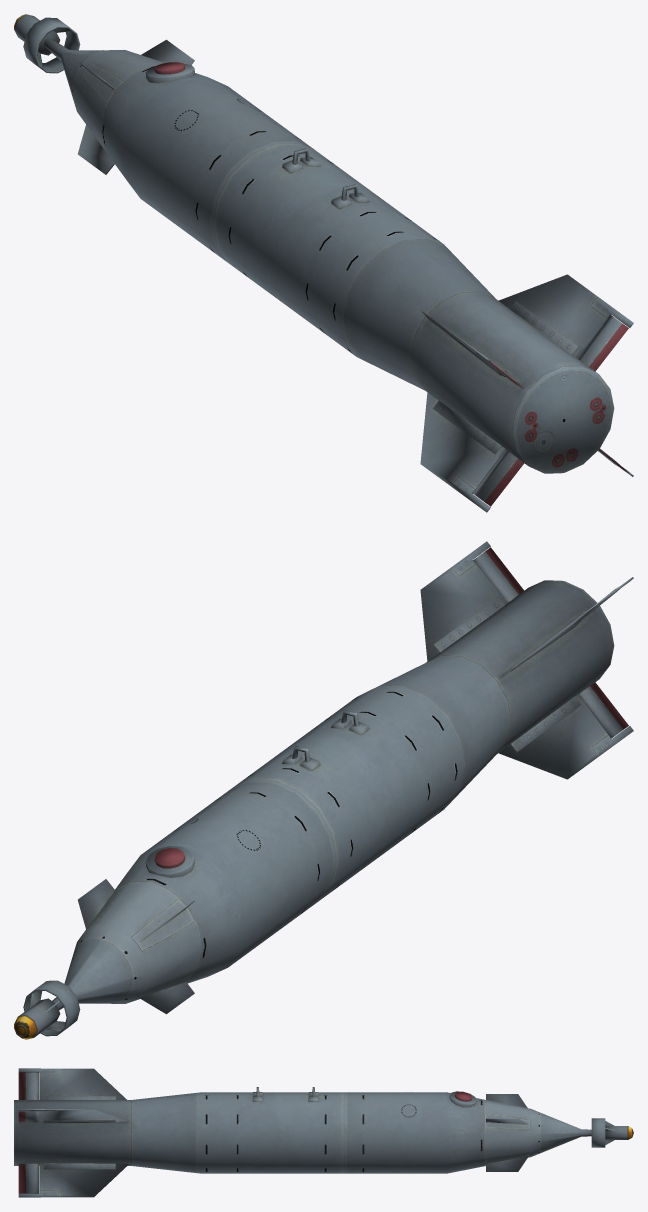
File: kab-500l.glb
The picture shows the model from 3 angles, top to bottom: view 1: azimuth 30°, elevation 25°; view 2: azimuth 150°, elevation 25°; view 3: azimuth 270°, elevation 25°; orthographic projection. The views are drawn at different scales.
Visible parts, largest first — view 1: KAB-500L_3; view 2: KAB-500L_3; view 3: KAB-500L_3.
Boxes of the visible parts, left/top/right/bottom form: KAB-500L_3: left=14, top=14, right=633, bottom=512; KAB-500L_3: left=14, top=541, right=633, bottom=1039; KAB-500L_3: left=14, top=1068, right=633, bottom=1197.
Size of the model in its own units: 0.4885 by 0.4892 by 3.1.
Materials: 1 (1 with a texture image).
